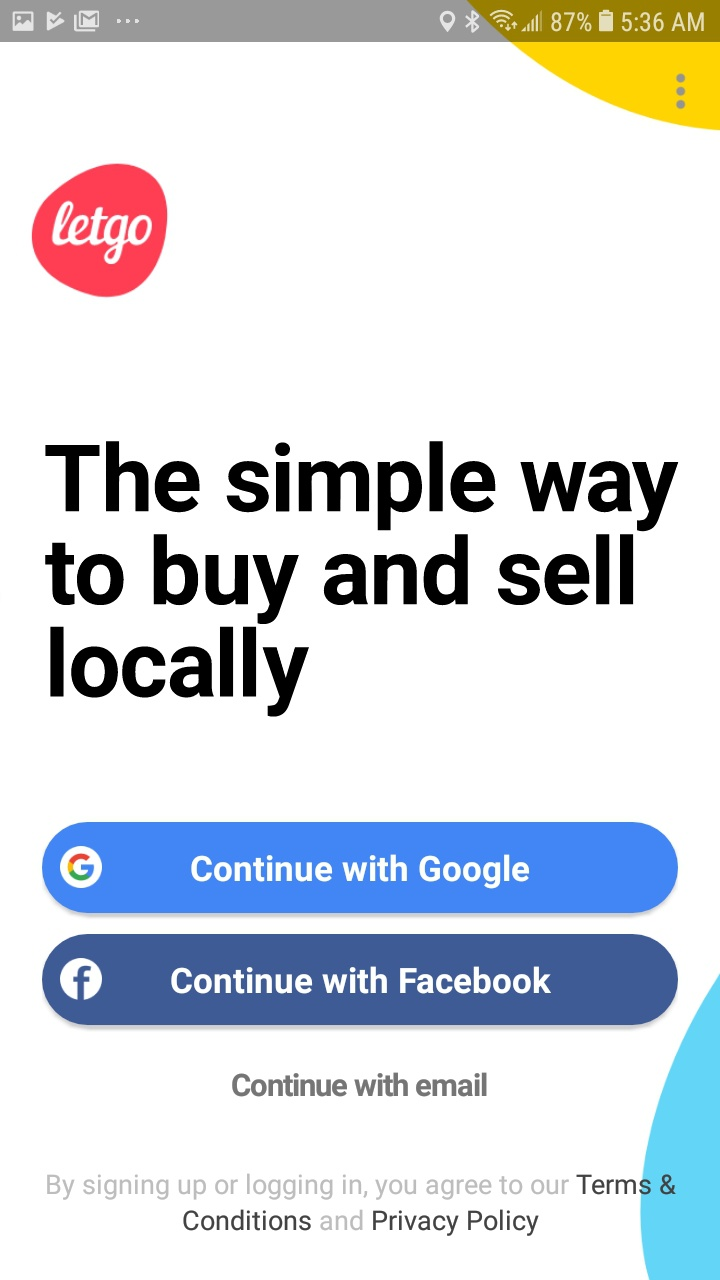Icon: (675, 74, 686, 111)
Image: (32, 164, 169, 299)
Text: (45, 441, 679, 718), (47, 1173, 676, 1236), (232, 1072, 488, 1097)
TextButton: (42, 822, 678, 914), (43, 934, 678, 1026)
UpperTaskBar: (1, 1, 720, 43)
